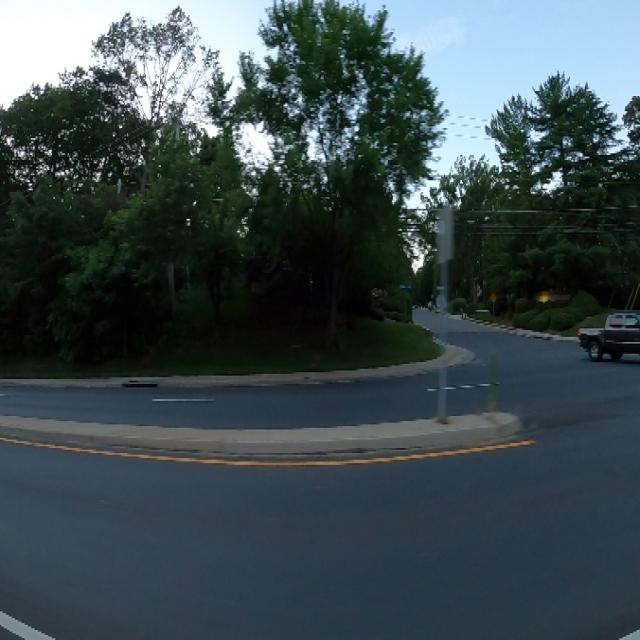cars: (578, 306, 640, 389)
